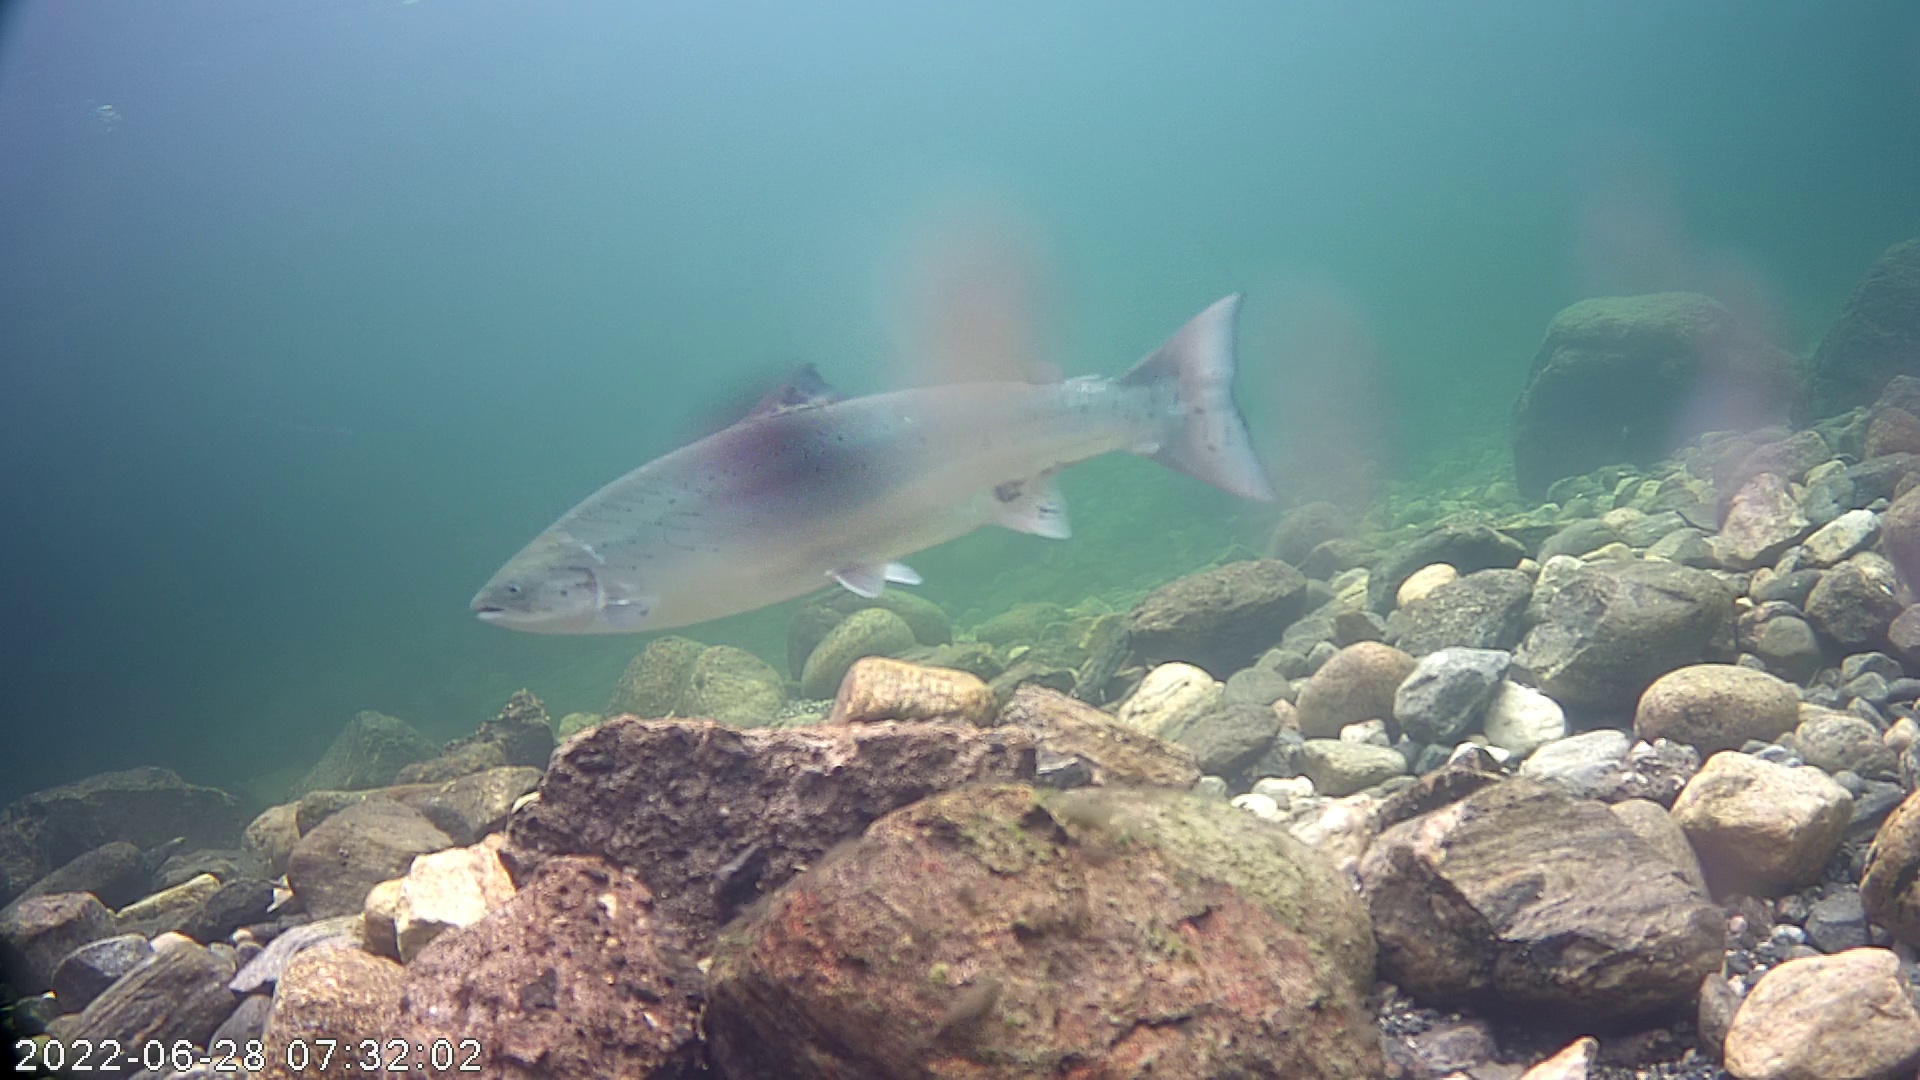salmon: (463, 219, 1300, 653)
